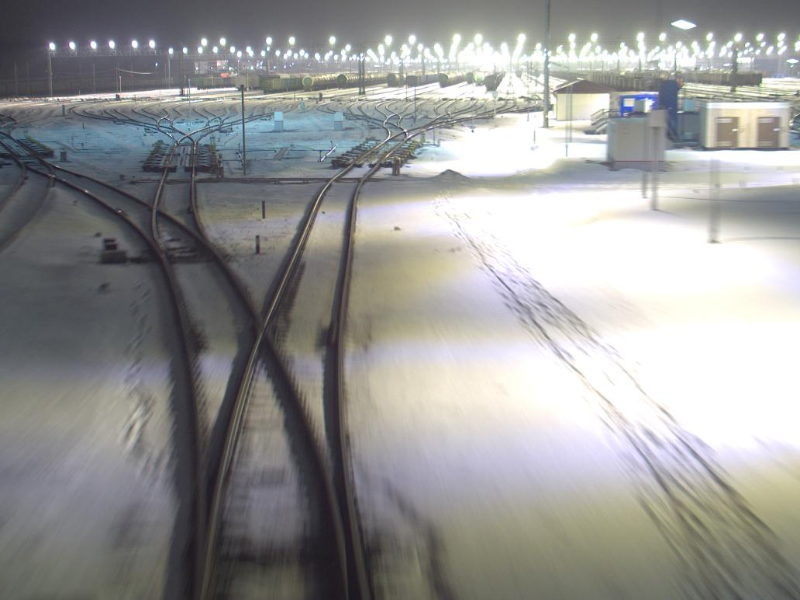left: (139, 228, 217, 249)
right: (185, 505, 390, 599)
